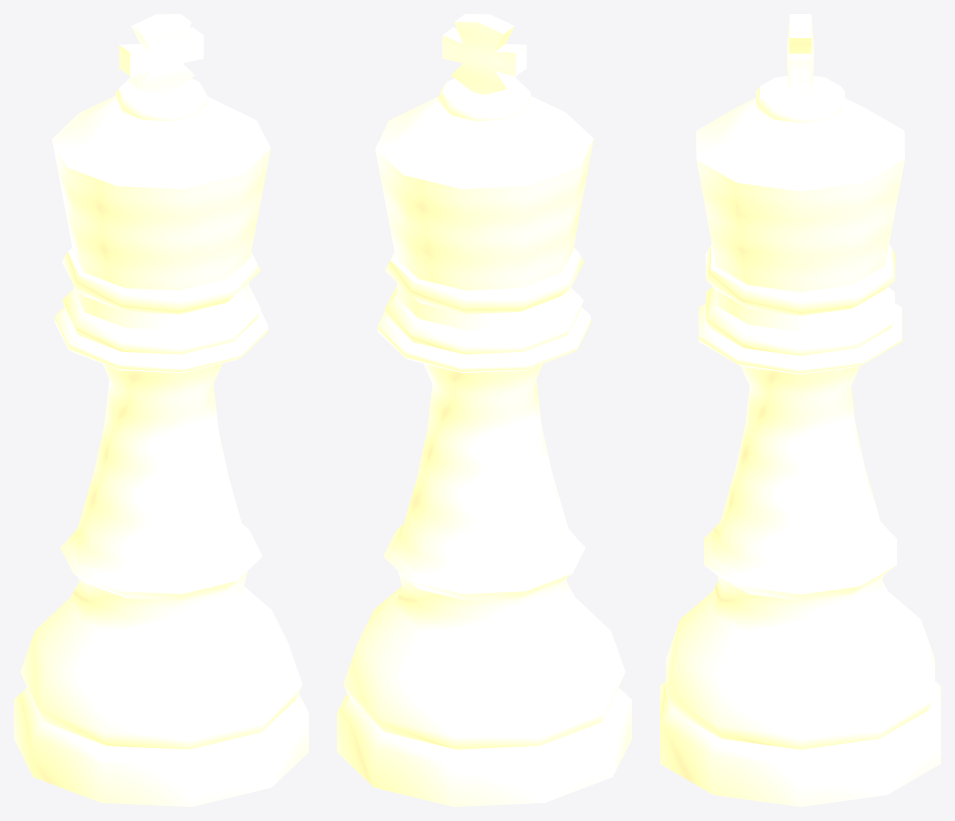
The model's file is item-5-10.glb.
3 views of the same model, side by side, from view 1: azimuth 30°, elevation 25°; view 2: azimuth 150°, elevation 25°; view 3: azimuth 270°, elevation 25° (orthographic).
Visible parts, largest first — view 1: BlackKing; view 2: BlackKing; view 3: BlackKing.
Boxes of the visible parts, <box> form: BlackKing: <box>14,14,308,806</box>; BlackKing: <box>337,14,631,806</box>; BlackKing: <box>660,14,940,806</box>.
Size of the model in its own units: 0.0886 by 0.2399 by 0.0843.
1 material, 1 textured.
